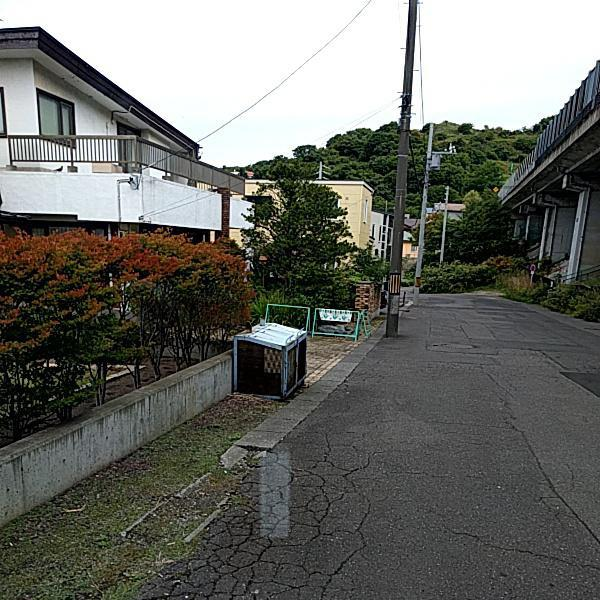D10: (433, 519, 599, 572)
D20: (163, 415, 400, 599)
